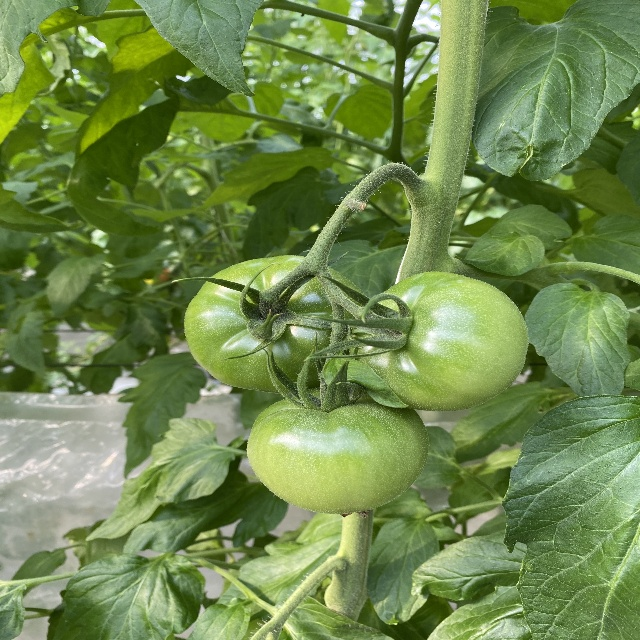b_green: (183, 255, 372, 394), (349, 271, 529, 411), (246, 383, 430, 515)
